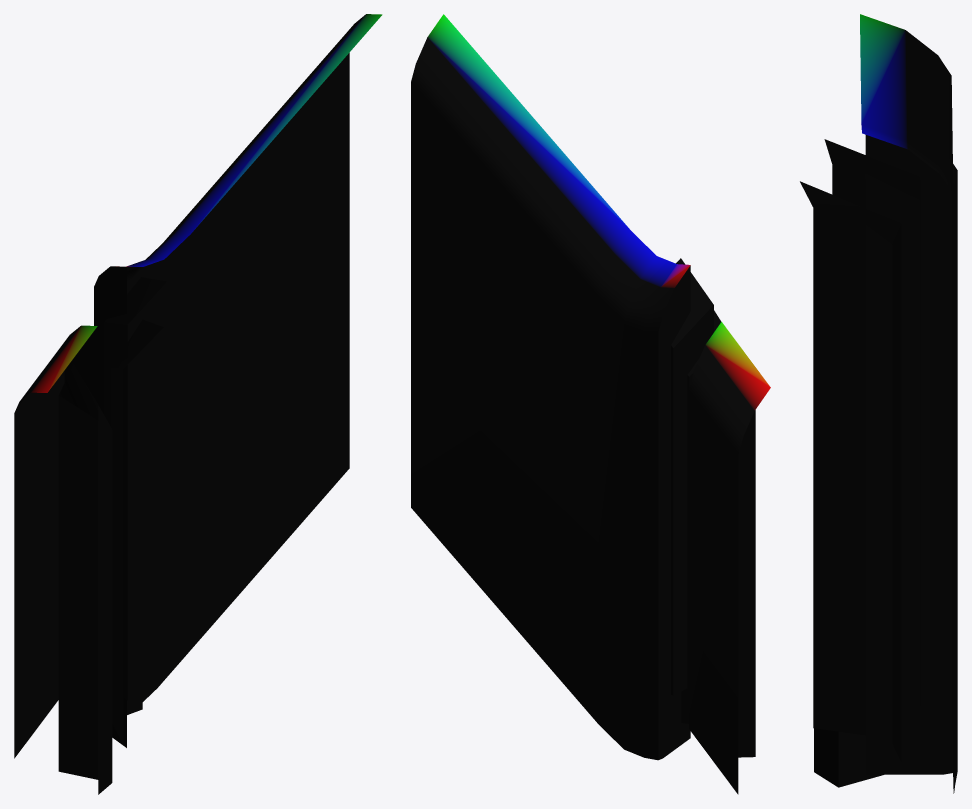
File: 3DSlopeCrevasse.fbx
3 renders of one model, left to right at view 1: azimuth 30°, elevation 25°; view 2: azimuth 150°, elevation 25°; view 3: azimuth 270°, elevation 25°, orthographic. The views are drawn at different scales.
Parts seen in each view (by area): view 1: polySurface11; view 2: polySurface11; view 3: polySurface11.
Boxes of the visible parts, x1=… form: polySurface11: x1=14, y1=14, x2=382, y2=794; polySurface11: x1=411, y1=14, x2=770, y2=794; polySurface11: x1=800, y1=14, x2=957, y2=793.
Bounding box in the file's own units: 8502 × 16892 × 2517.
